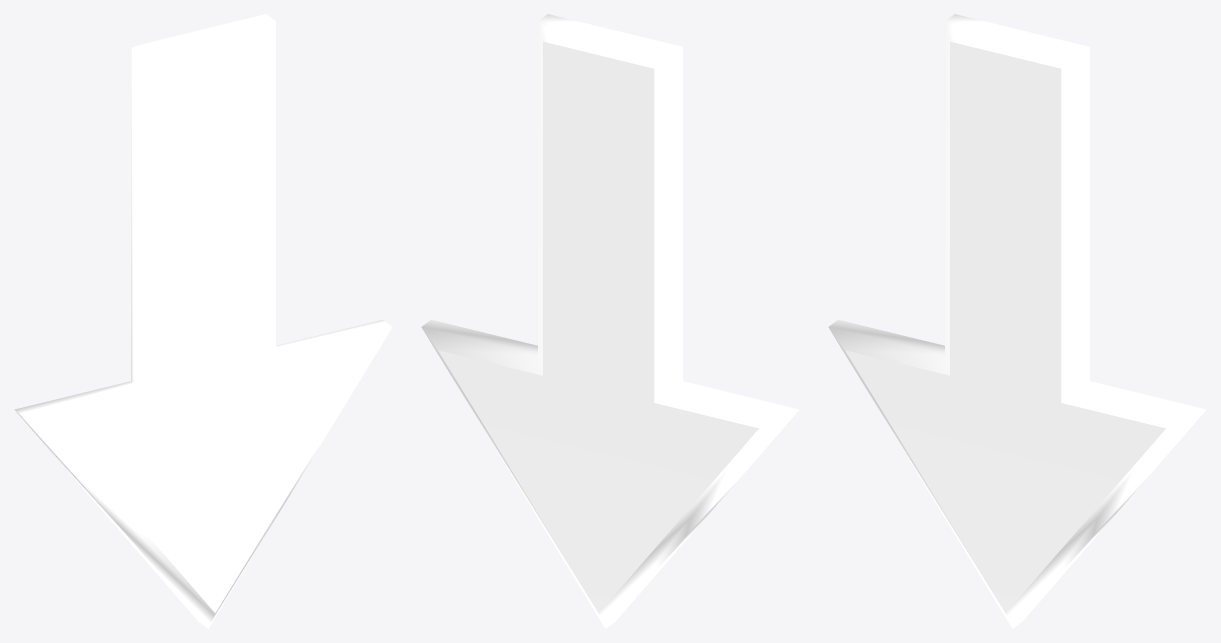
3 views of the same model, side by side, from view 1: azimuth 30°, elevation 25°; view 2: azimuth 150°, elevation 25°; view 3: azimuth 330°, elevation 25° (orthographic).
Parts seen in each view (by area): view 1: IndicatorArrowDownWhite; view 2: IndicatorArrowDownWhite; view 3: IndicatorArrowDownWhite.
Part boxes in pixels (left/top/right/bottom): IndicatorArrowDownWhite: left=14, top=14, right=392, bottom=628; IndicatorArrowDownWhite: left=421, top=14, right=799, bottom=628; IndicatorArrowDownWhite: left=828, top=14, right=1206, bottom=628.
Bounding box in the file's own units: 0.45 × 0.69 × 0.05.
Materials: 1 (1 with a texture image).
